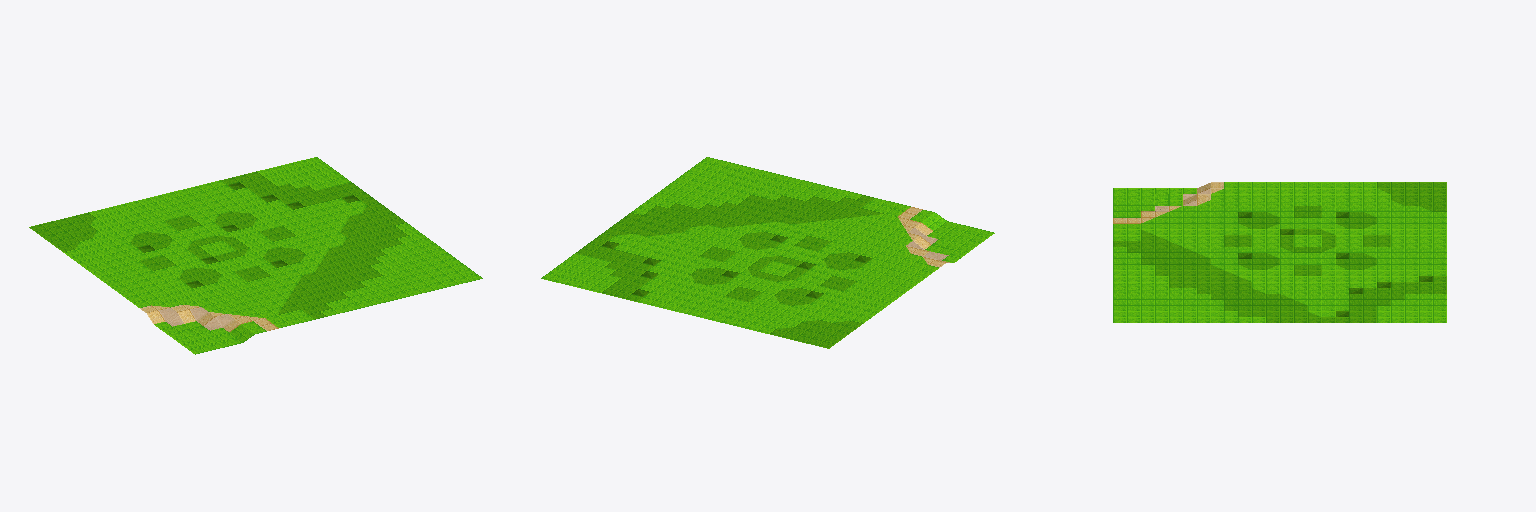
3 renders of one model, left to right at view 1: azimuth 30°, elevation 25°; view 2: azimuth 150°, elevation 25°; view 3: azimuth 270°, elevation 25°, orthographic.
Visible parts, largest first — view 1: FloorCorner_1; view 2: FloorCorner_1; view 3: FloorCorner_1.
Boxes of the visible parts, x1,y1,x2,y2 form: FloorCorner_1: [29, 157, 482, 354]; FloorCorner_1: [541, 157, 994, 348]; FloorCorner_1: [1113, 182, 1446, 322].
Bounding box in the file's own units: 24 × 0.5008 × 24.
Materials: 11 (11 with a texture image).